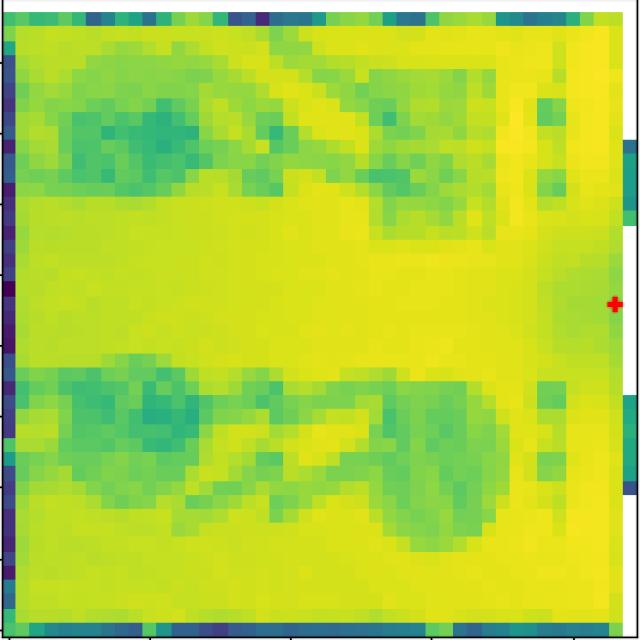Concrete: (66, 31, 231, 214)
Glass: (344, 341, 515, 572)
Metal: (52, 344, 214, 552)
Wood: (336, 49, 520, 272)
